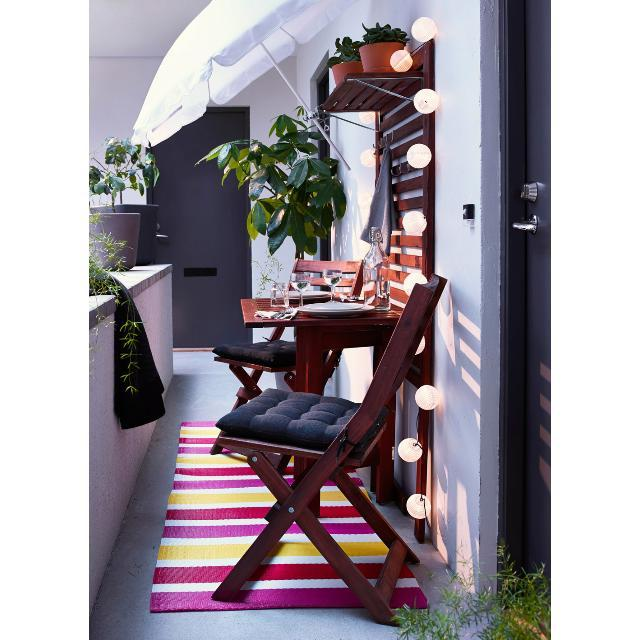chair: (210, 275, 446, 624)
plant: (198, 109, 346, 256), (88, 138, 158, 269)
rug: (148, 421, 361, 612), (320, 481, 387, 582)
table: (240, 299, 402, 394)
